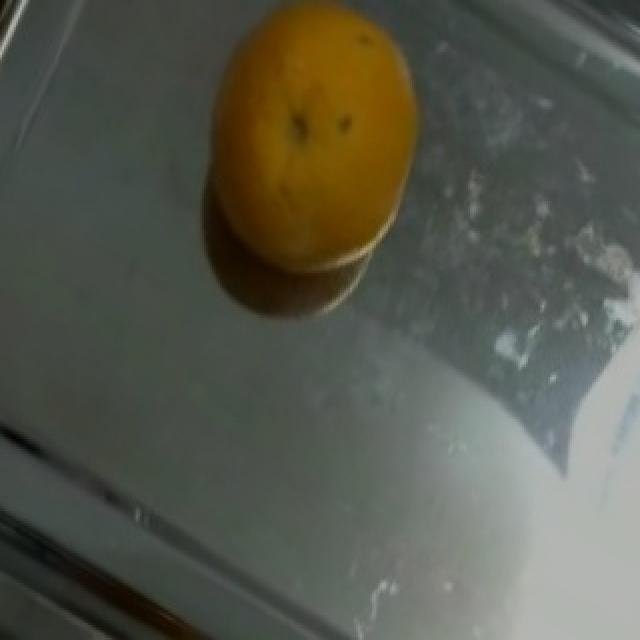Fruit: (176, 0, 446, 298)
